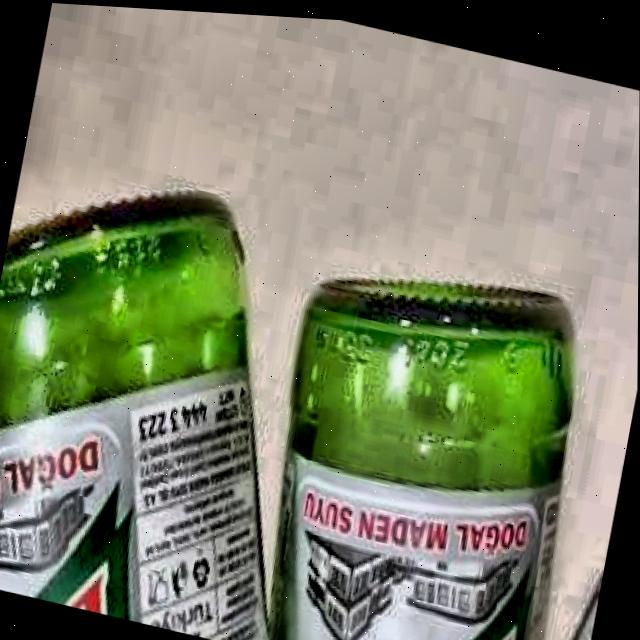glass: (0, 190, 576, 640)
